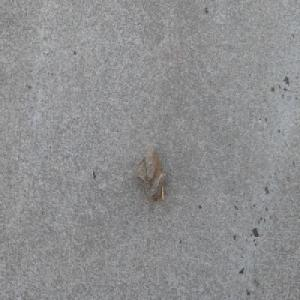Rock: (132, 144, 166, 203)
